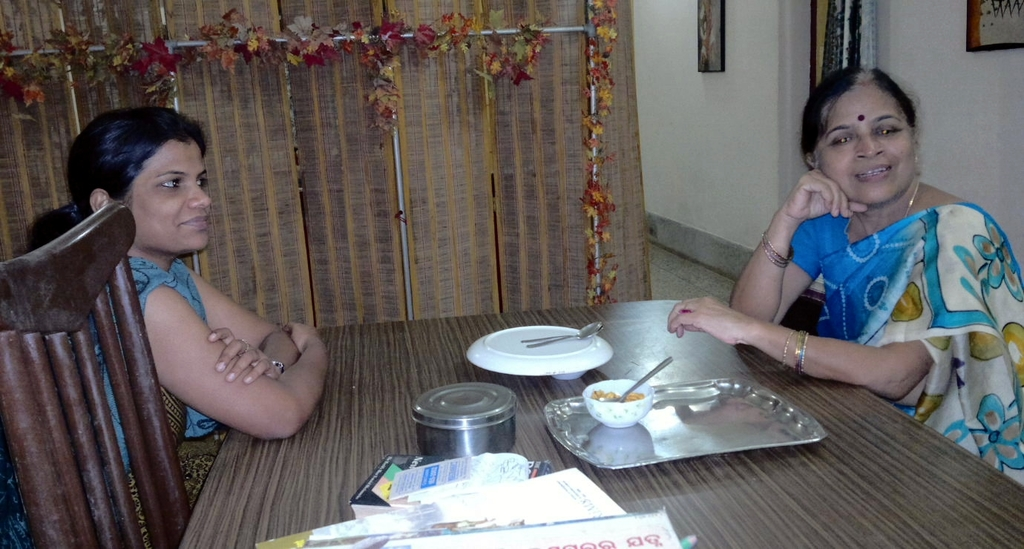plate: (473, 320, 604, 376)
